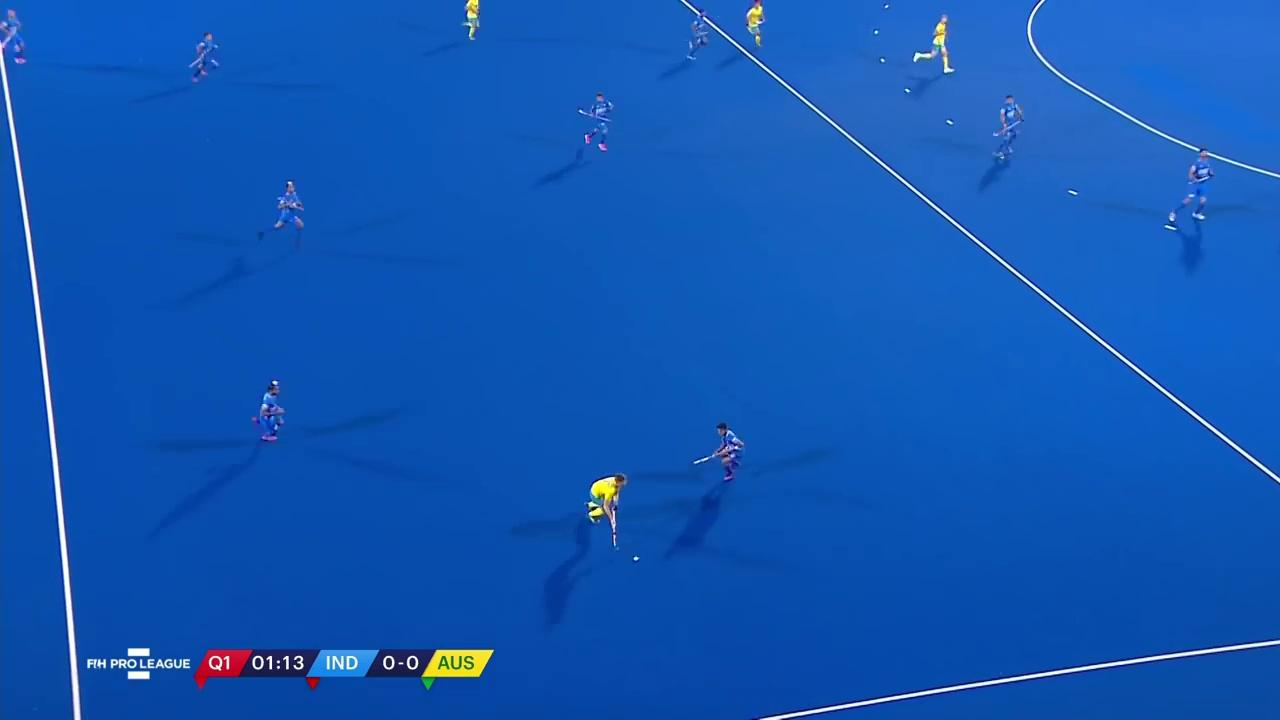ball: (626, 550, 645, 568)
